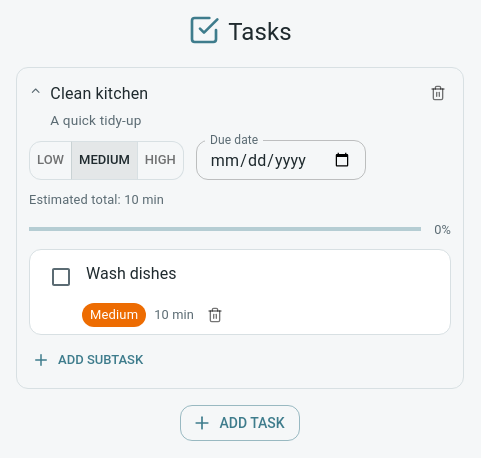
Test: TasksTab › deletes a task via its delete button
This screenshot has width=481, height=458.
Expected: the heading "Clean kitchen" is shown, [50,84,148,103]
Click the button named "Delete task": click(438, 93) [425,80,451,106]
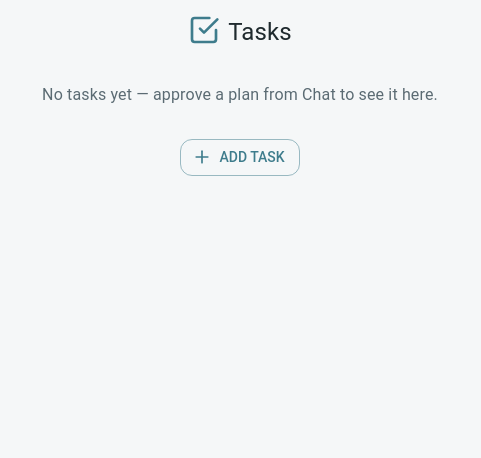
Expected: the heading "Clean kitchen" is gone
